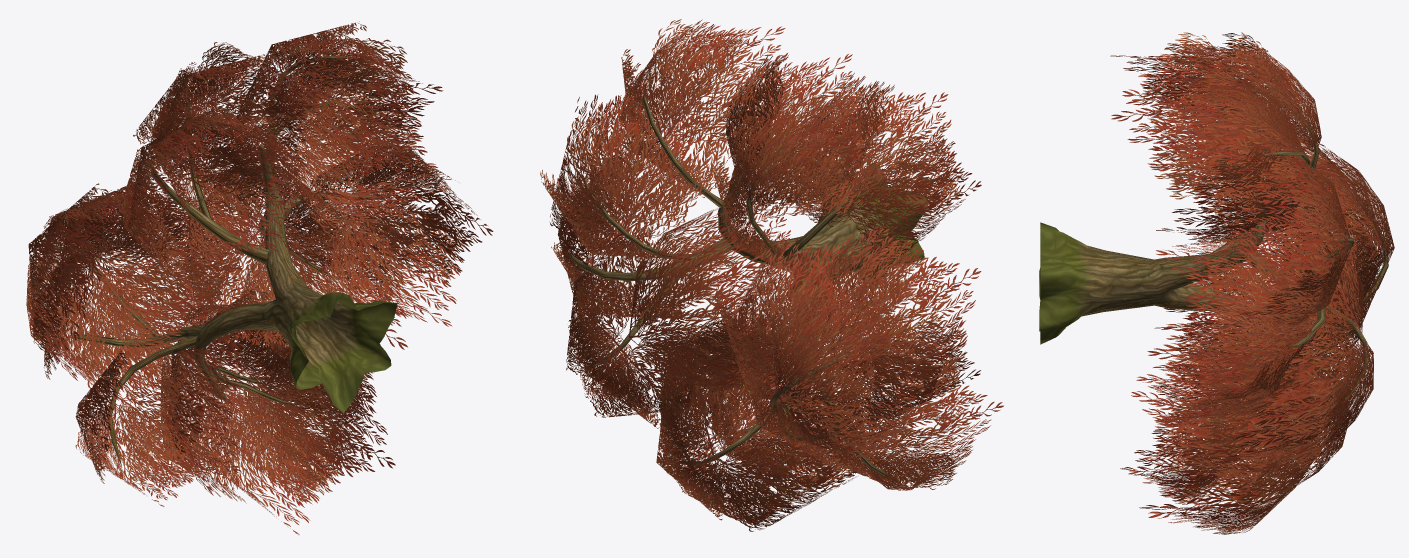
Rendered from willow_tree_1_LOD.fbx.
The picture shows the model from 3 angles, left to right: view 1: azimuth 30°, elevation 25°; view 2: azimuth 150°, elevation 25°; view 3: azimuth 270°, elevation 25°; orthographic projection. The views are drawn at different scales.
Visible parts, largest first — view 1: Willow_tree1_LOD0; view 2: Willow_tree1_LOD0; view 3: Willow_tree1_LOD0.
Boxes of the visible parts, box(x1,y1,x2,y2) form: Willow_tree1_LOD0: box(26, 21, 493, 534); Willow_tree1_LOD0: box(540, 19, 1003, 531); Willow_tree1_LOD0: box(1039, 32, 1394, 534).
Size of what is drawn, in the model's own units: 1579 by 1759 by 1142.
